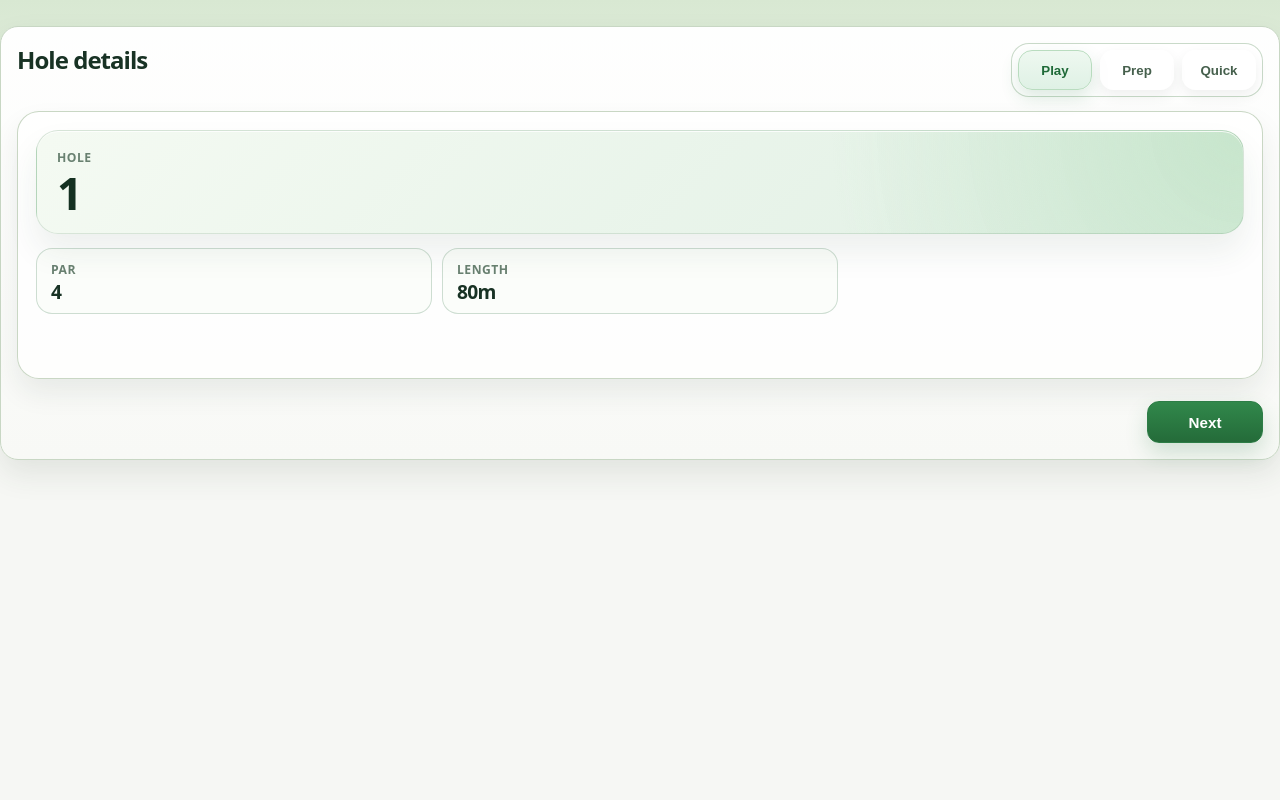
VirtualCaddyPanel › shows bunker lie options and uses them in the recommendation
Click the button "Next" at (1205, 422), box [1147,401,1263,443]
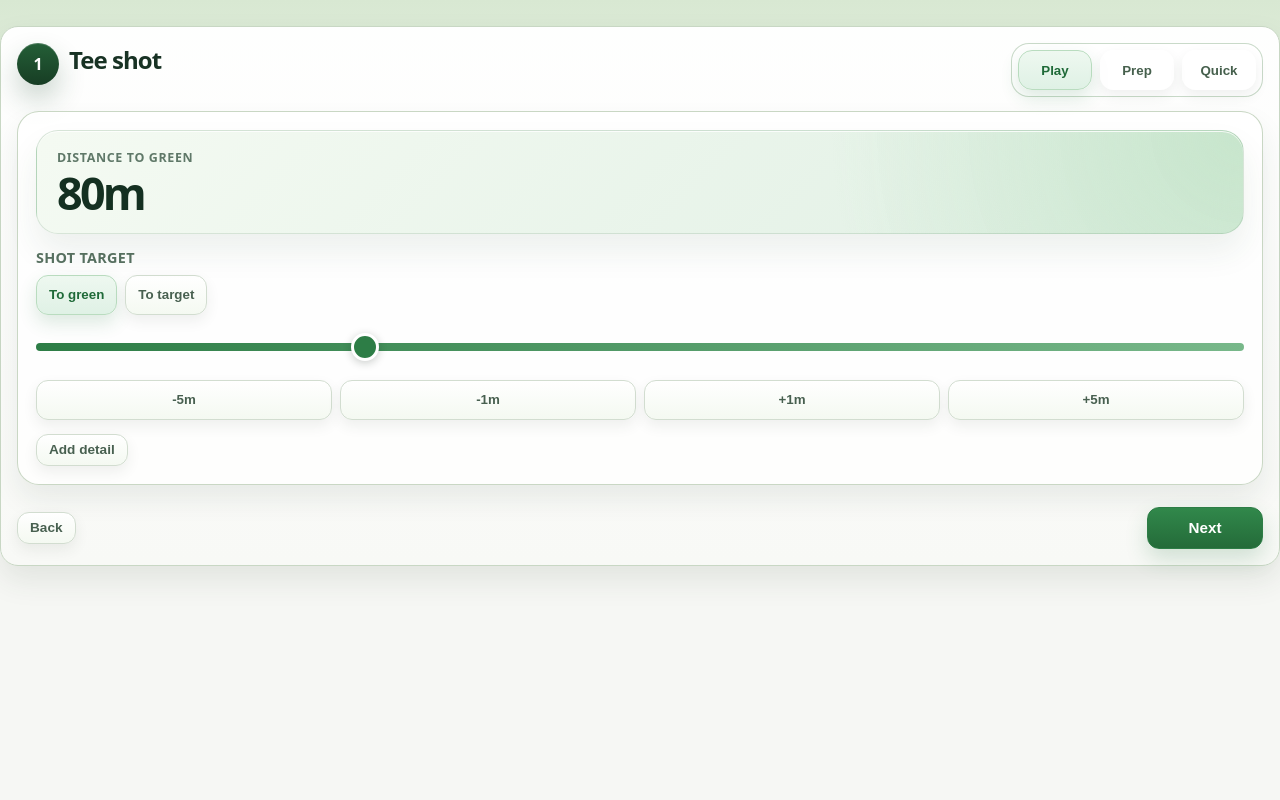
Click the button "Add detail" at (82, 450), box [36,434,128,466]
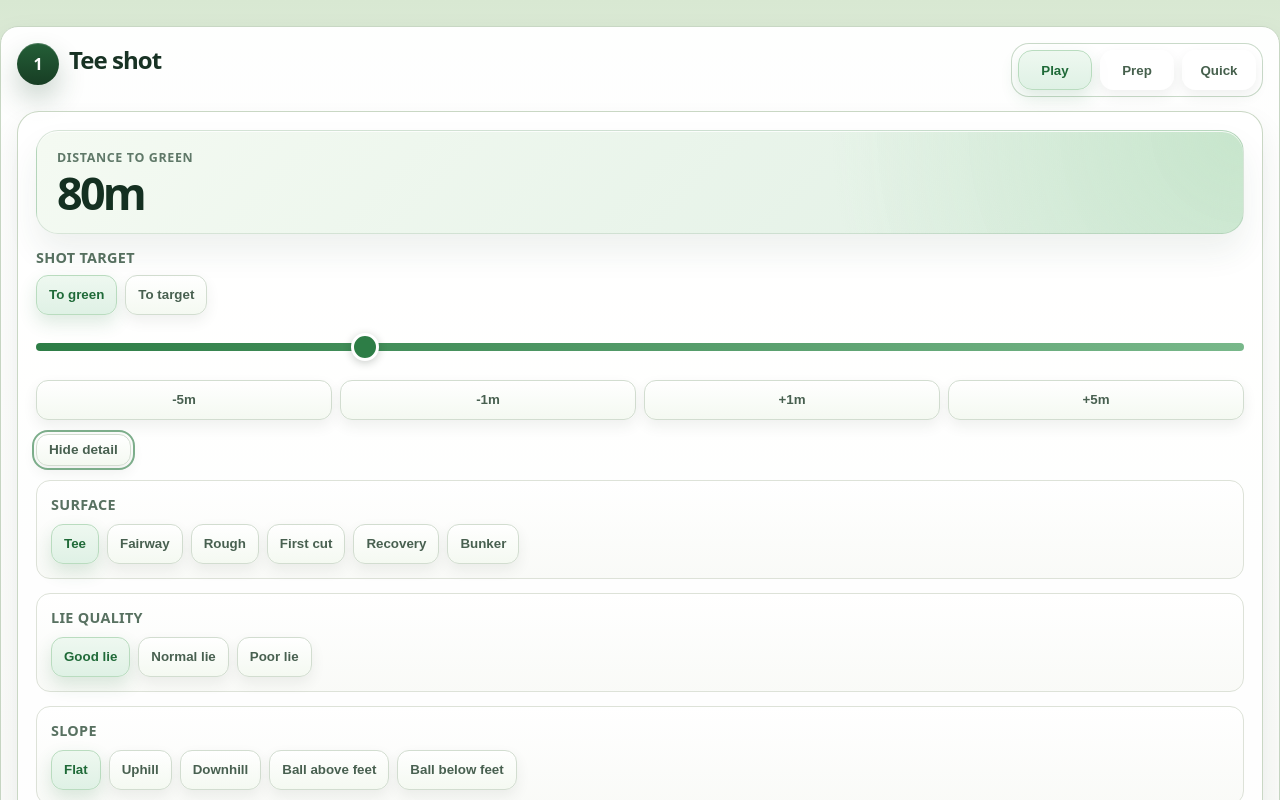
Click the button "Bunker" at (483, 544), box [447,524,519,564]
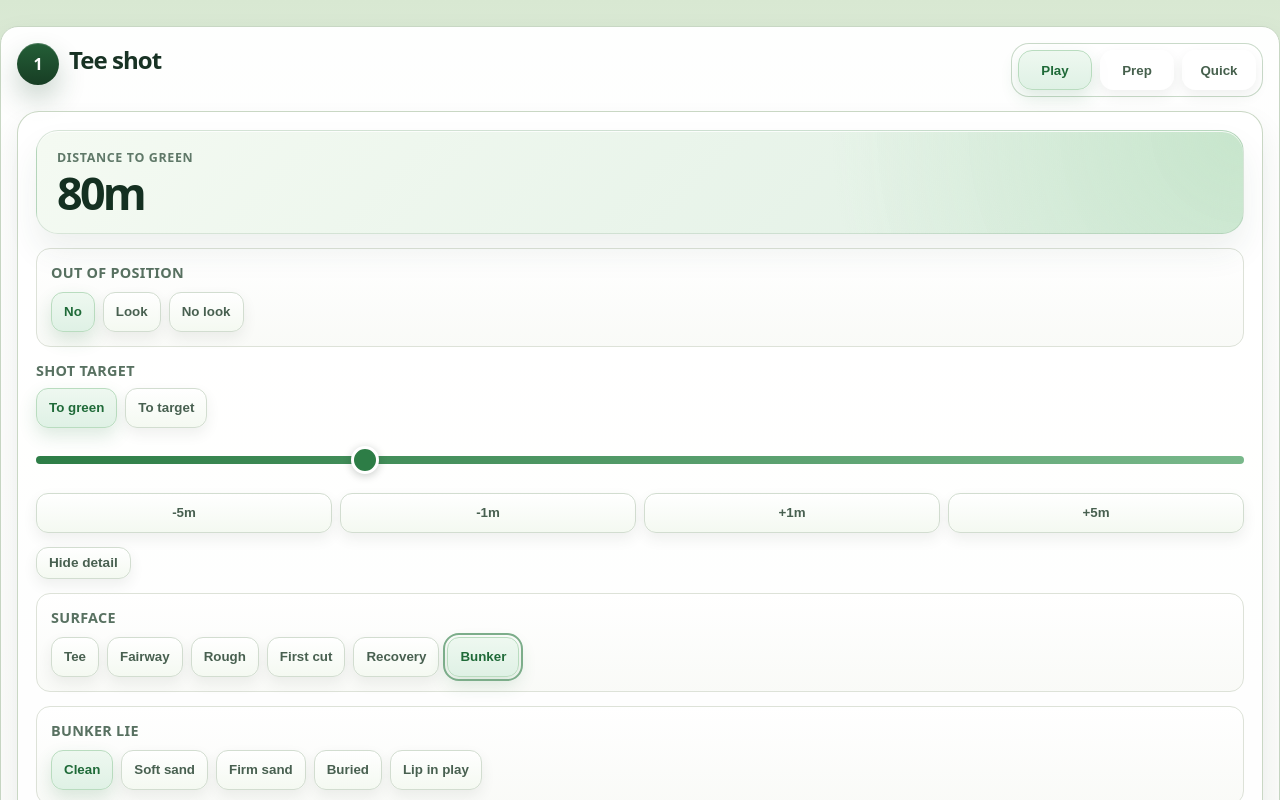
Click the button "Buried" at (348, 770), box [314,750,382,790]
(page scrolled)
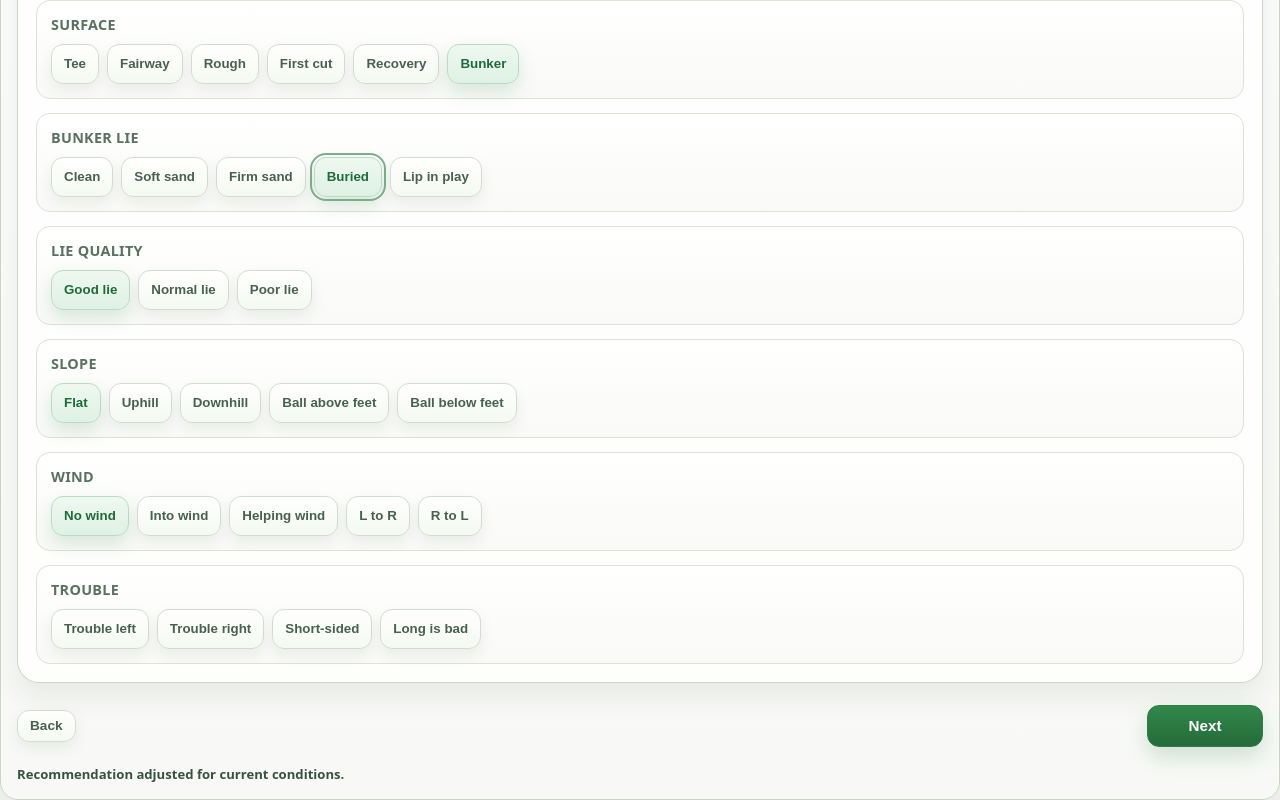
Click the button "Next" at (1205, 726), box [1147,704,1263,746]
(page scrolled)
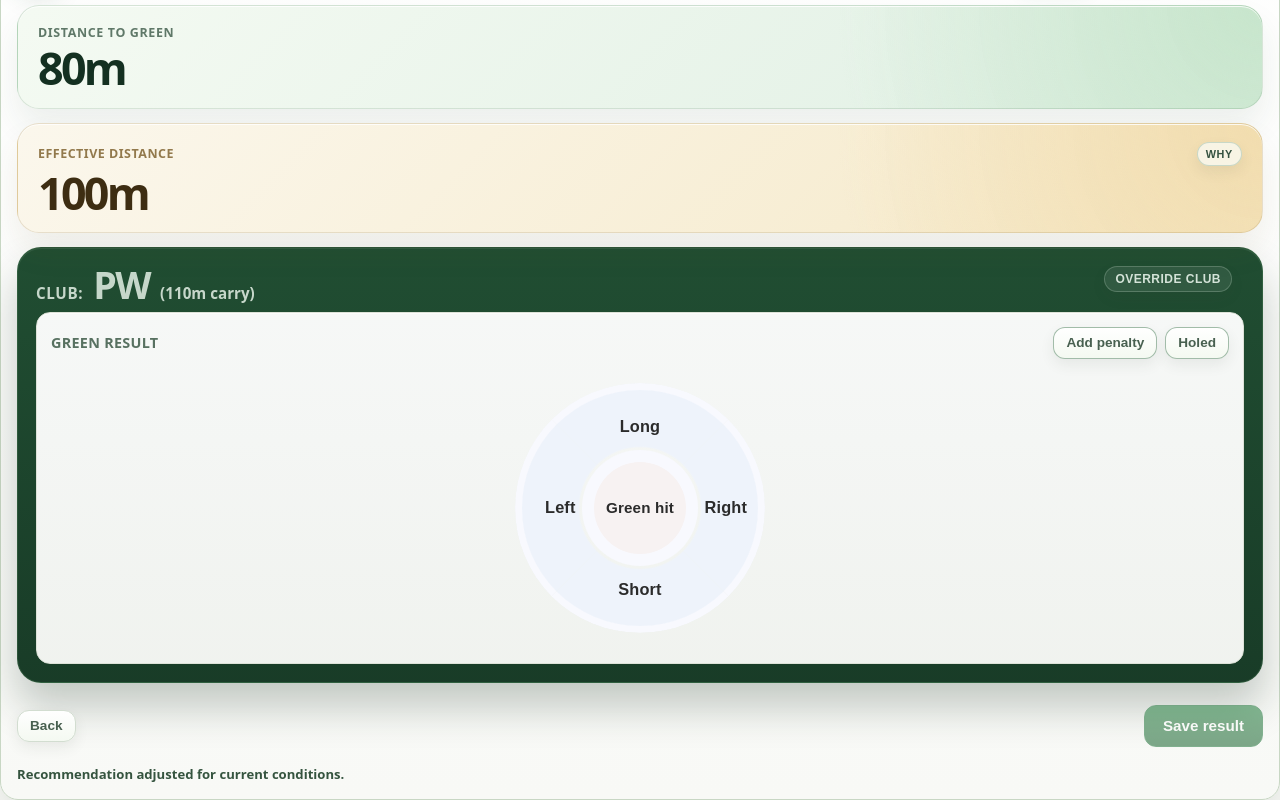
Expected: the text "(110m carry)" is shown, [160,285,255,302]
Expected: the text "Effective distance" is shown, [38,145,174,162]
